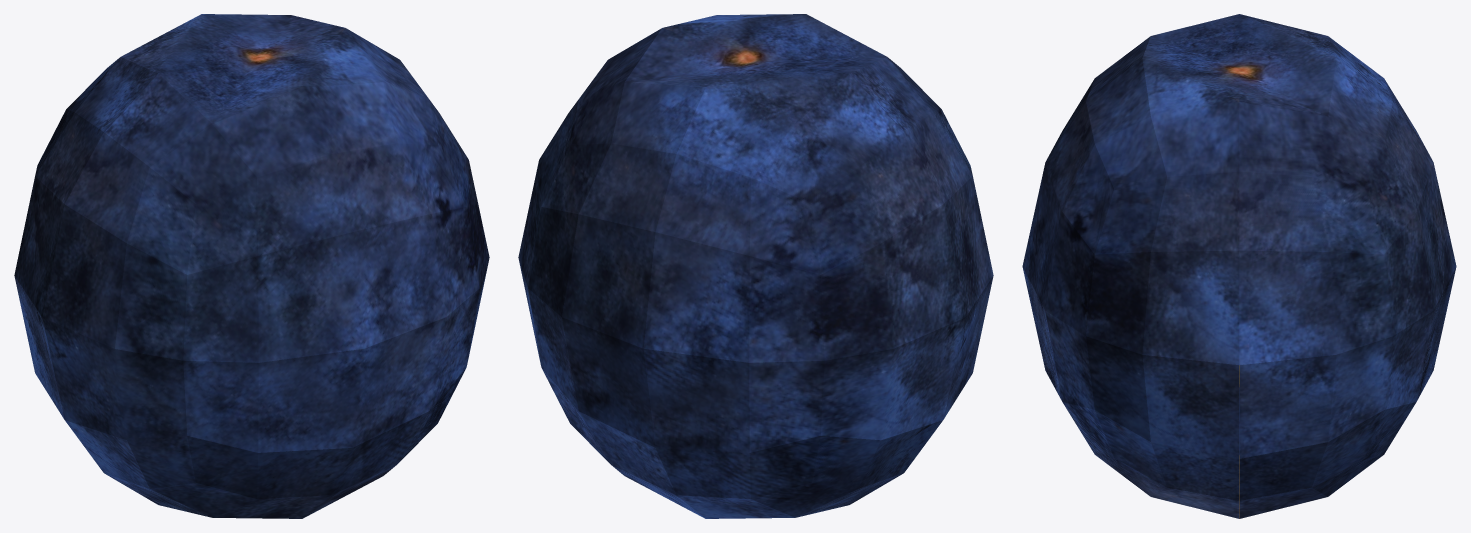
The model's file is drain.fbx.
3 renders of one model, left to right at view 1: azimuth 30°, elevation 25°; view 2: azimuth 150°, elevation 25°; view 3: azimuth 270°, elevation 25°, orthographic. The views are drawn at different scales.
Parts seen in each view (by area): view 1: drain, drain.002, drain.001; view 2: drain, drain.001, drain.002; view 3: drain, drain.002, drain.001.
Boxes of the visible parts, x1,y1,x2,y2 form: drain: (14, 14, 489, 362); drain.002: (42, 259, 489, 518); drain.001: (14, 276, 64, 419); drain: (518, 14, 993, 362); drain.001: (518, 259, 965, 518); drain.002: (943, 276, 993, 419); drain: (1022, 14, 1456, 365); drain.002: (1022, 267, 1239, 518); drain.001: (1239, 267, 1456, 518).
Size of the model in its own units: 0.5531 by 0.5763 by 0.5137.
